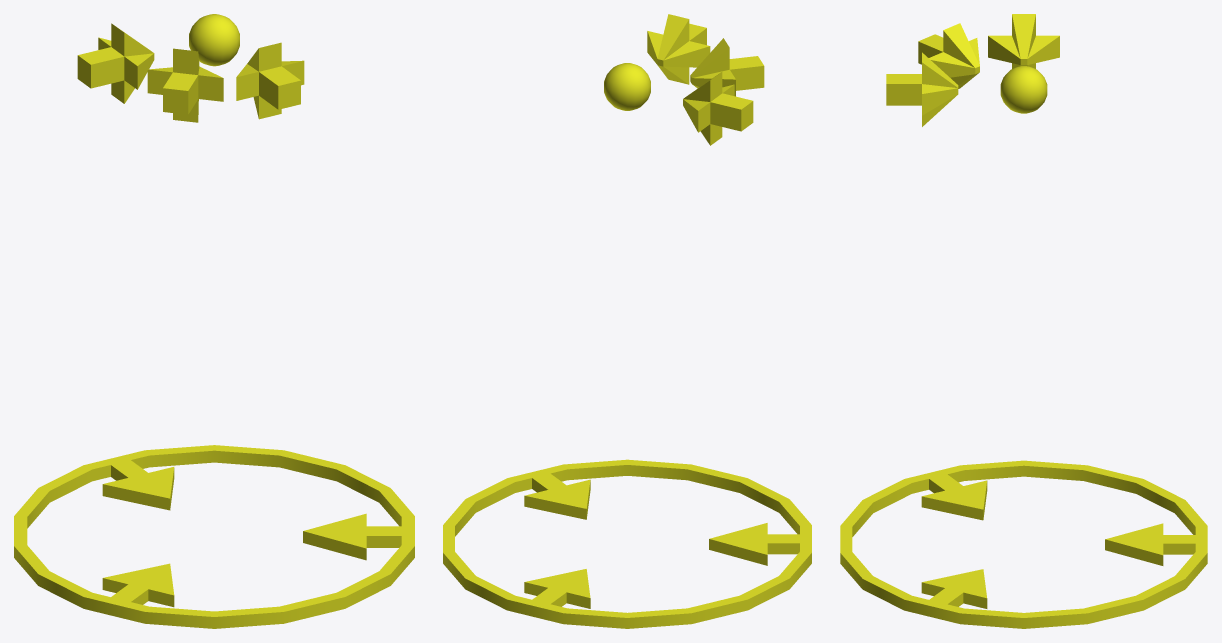
The model's file is yuansu01.1e72827.glb.
3 views of the same model, side by side, from view 1: azimuth 30°, elevation 25°; view 2: azimuth 150°, elevation 25°; view 3: azimuth 270°, elevation 25° (orthographic). The views are drawn at different scales.
Parts seen in each view (by area): view 1: yuansu01; view 2: yuansu01; view 3: yuansu01.
Boxes of the visible parts, bbox=[...] form: yuansu01: bbox=[14, 14, 414, 628]; yuansu01: bbox=[443, 14, 811, 628]; yuansu01: bbox=[840, 14, 1207, 628].
Bounding box in the file's own units: 1.55 × 2.26 × 1.53.
